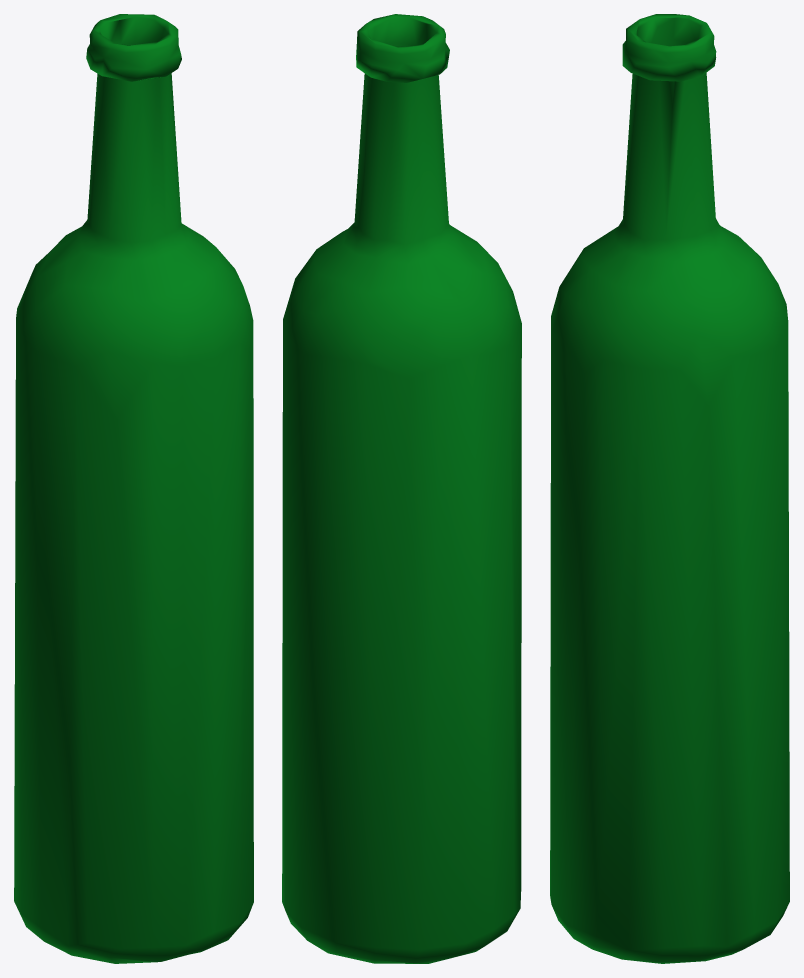
File: Bouteille.fbx
3 views of the same model, side by side, from view 1: azimuth 30°, elevation 25°; view 2: azimuth 150°, elevation 25°; view 3: azimuth 270°, elevation 25° (orthographic).
Visible parts, largest first — view 1: Sphere; view 2: Sphere; view 3: Sphere.
Part boxes in pixels (left/top/right/bottom): Sphere: left=14, top=14, right=253, bottom=963; Sphere: left=282, top=14, right=521, bottom=963; Sphere: left=550, top=14, right=789, bottom=963.
Size of the model in its own units: 6.06 by 24.95 by 6.06.
